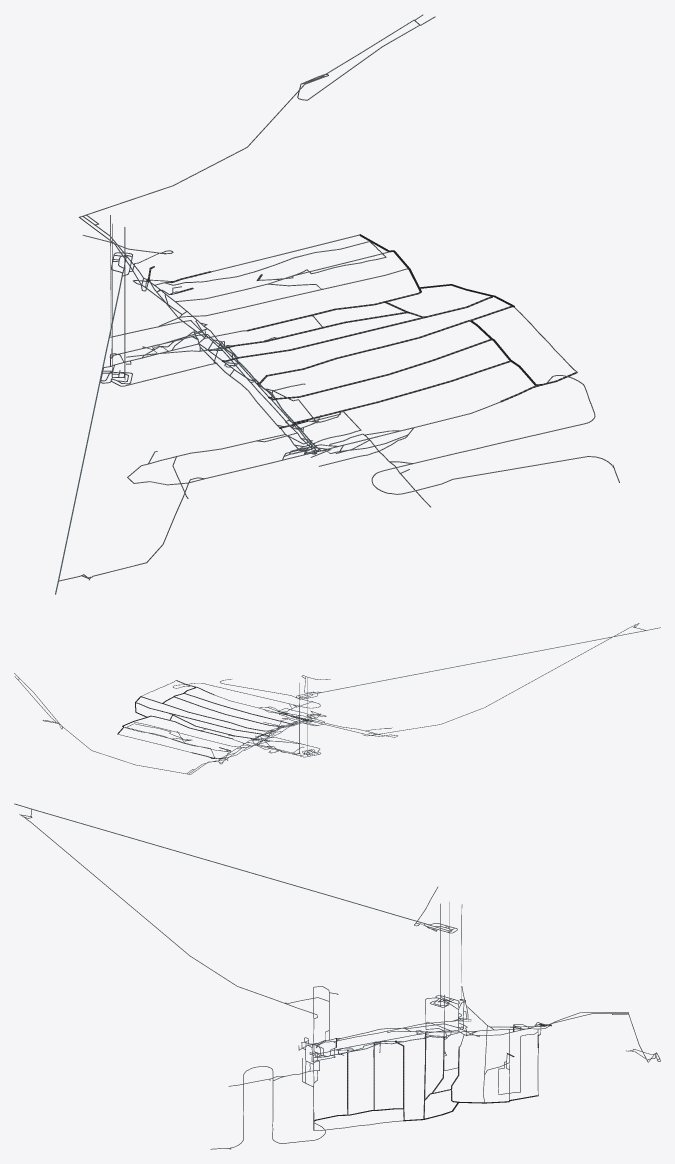
Rendered from YJHSWMK.glb.
3 renders of one model, top to bottom at view 1: azimuth 30°, elevation 25°; view 2: azimuth 150°, elevation 25°; view 3: azimuth 270°, elevation 25°, orthographic. The views are drawn at different scales.
Parts seen in each view (by area): view 1: no part large enough to name; view 2: ms279, ms273; view 3: ms279.
Boxes of the visible parts, <box> form: ms279: <box>321,630,645,692</box>; ms273: <box>371,625,634,735</box>; ms279: <box>32,809,423,923</box>.
Size of the model in its own units: 4289 by 1044 by 4285.
559 materials, 559 textured.
